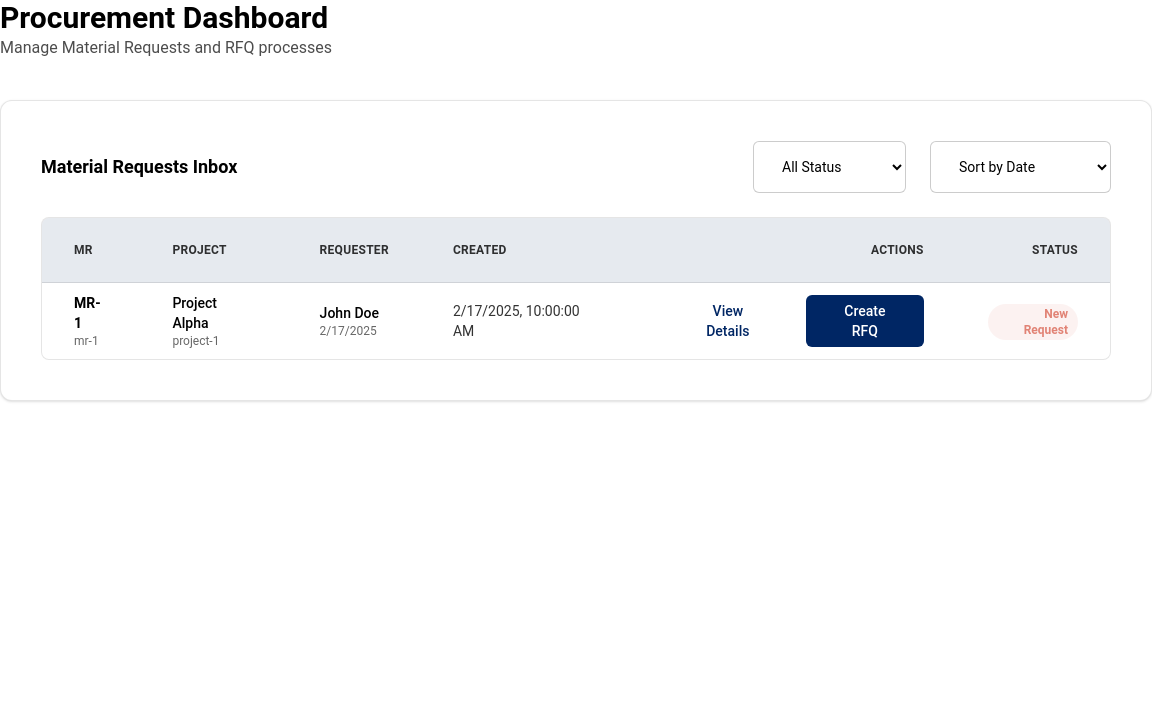
Scenario: ProcurementDashboard › opens detail modal when viewing MR details
Expected: the text "MR-1" is shown, [74,295,101,331]
Click the button "View Details": (728, 321) [666,295,790,347]
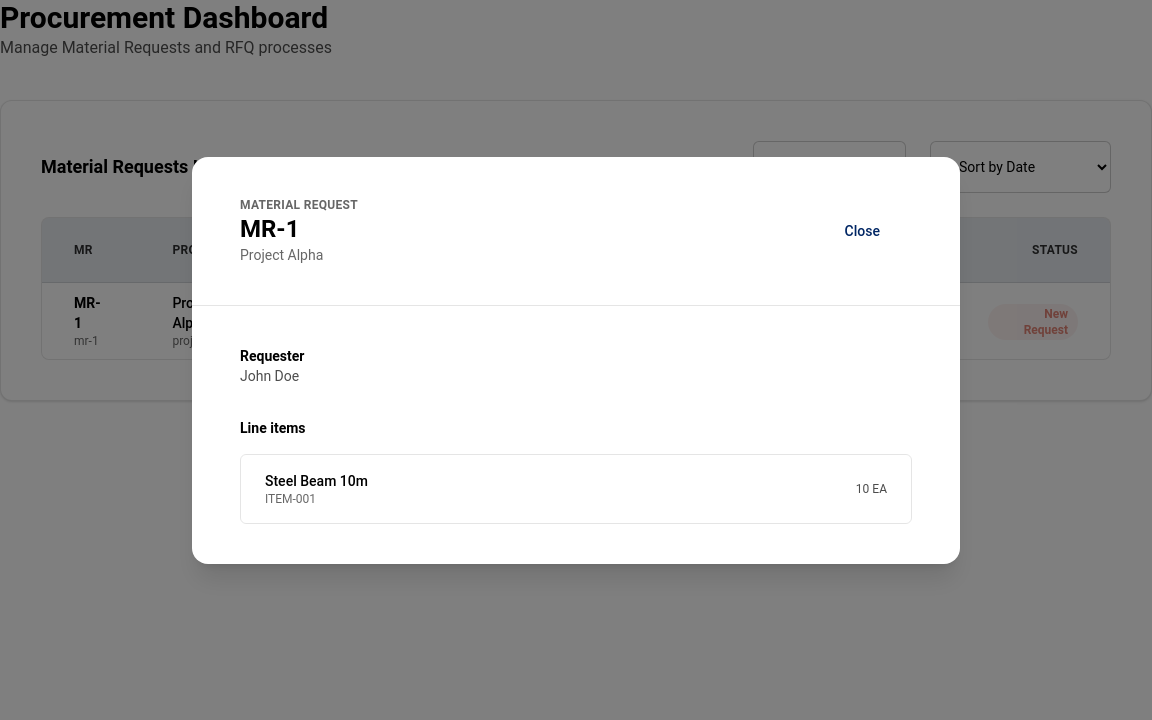
Expected: the heading "Line items" is shown, [240,420,306,436]
Expected: the text "Steel Beam 10m" is shown, [265,470,368,490]
